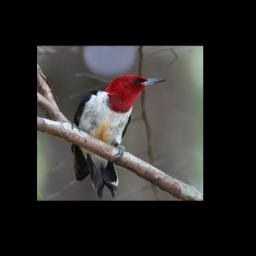Woodpecker: (71, 74, 167, 200)
